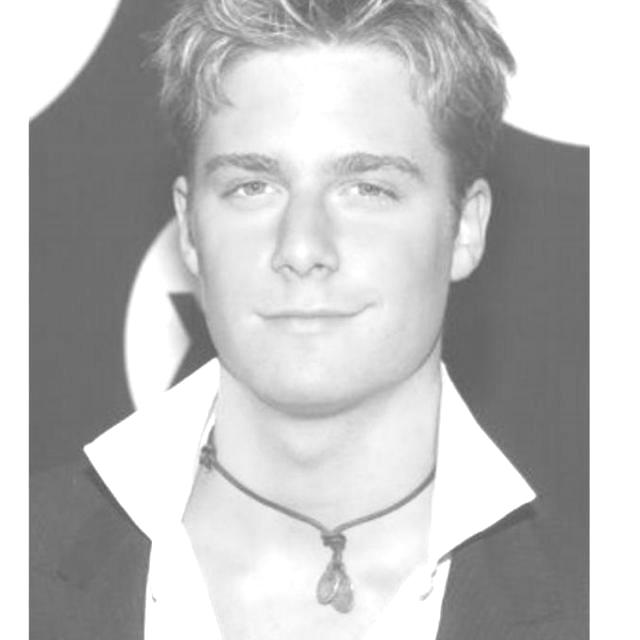real: (161, 28, 505, 428)
